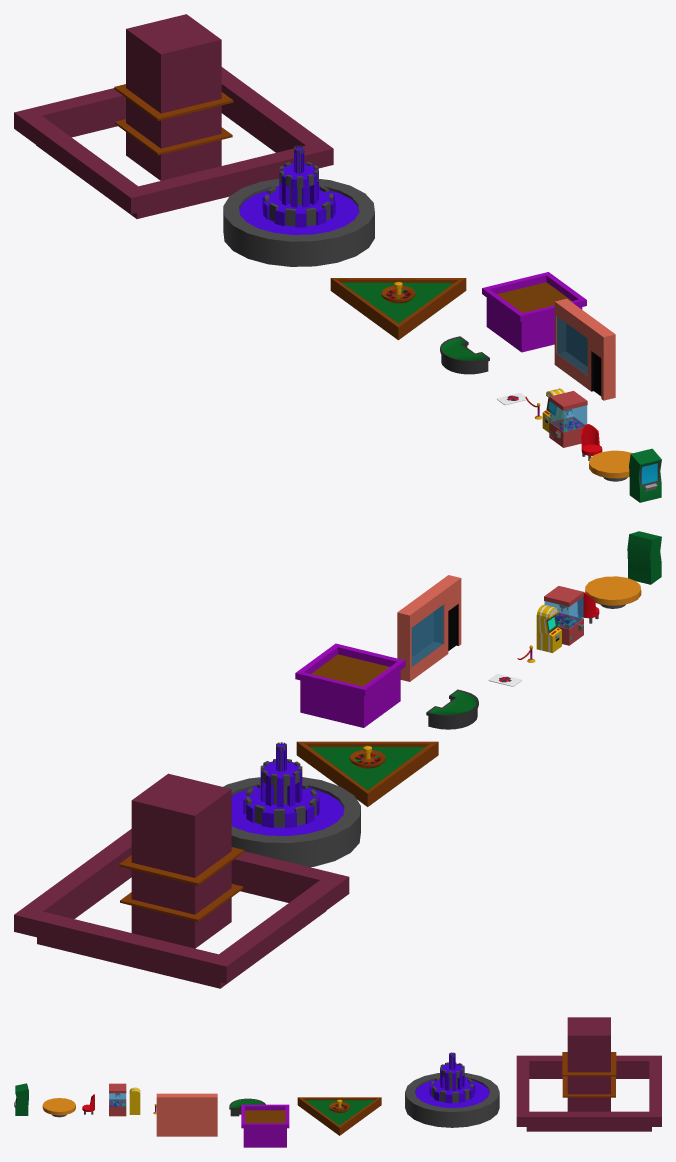
File: cassino_objetos.fbx
The picture shows the model from 3 angles, top to bottom: view 1: azimuth 30°, elevation 25°; view 2: azimuth 150°, elevation 25°; view 3: azimuth 270°, elevation 25°; orthographic projection. The views are drawn at different scales.
Visible parts, largest first — view 1: Balcao, Fonte, MesaDeDado, Cube, Vitrine, MaquinaBrinquedo, MaquinaCartao, Mesa21, Mesa; view 2: Balcao, Fonte, Cube, MesaDeDado, Vitrine, MaquinaCartao, MaquinaBrinquedo, Mesa21, Mesa, MaquinaArcade; view 3: Balcao, Fonte, Vitrine, Cube, MesaDeDado, MaquinaBrinquedo, Mesa, MaquinaCartao, Mesa21, MaquinaArcade.
Boxes of the visible parts, bbox=[...] form: Balcao: bbox=[14, 14, 333, 218]; Fonte: bbox=[223, 145, 374, 266]; MesaDeDado: bbox=[330, 278, 466, 340]; Cube: bbox=[482, 272, 586, 352]; Vitrine: bbox=[554, 298, 615, 400]; MaquinaBrinquedo: bbox=[549, 391, 587, 447]; MaquinaCartao: bbox=[629, 448, 661, 502]; Mesa21: bbox=[440, 336, 489, 374]; Mesa: bbox=[589, 450, 632, 481]; Balcao: bbox=[14, 773, 349, 988]; Fonte: bbox=[223, 742, 360, 867]; Cube: bbox=[295, 643, 405, 727]; MesaDeDado: bbox=[296, 741, 438, 806]; Vitrine: bbox=[397, 575, 461, 681]; MaquinaCartao: bbox=[627, 531, 661, 584]; MaquinaBrinquedo: bbox=[544, 586, 583, 645]; Mesa21: bbox=[426, 689, 478, 729]; Mesa: bbox=[585, 576, 641, 608]; MaquinaArcade: bbox=[536, 604, 561, 652]; Balcao: bbox=[516, 1017, 661, 1131]; Fonte: bbox=[405, 1052, 499, 1127]; Vitrine: bbox=[156, 1093, 217, 1136]; Cube: bbox=[241, 1104, 289, 1147]; MesaDeDado: bbox=[297, 1097, 381, 1135]; MaquinaBrinquedo: bbox=[109, 1083, 126, 1116]; Mesa: bbox=[42, 1098, 75, 1117]; MaquinaCartao: bbox=[14, 1083, 28, 1115]; Mesa21: bbox=[229, 1098, 265, 1116]; MaquinaArcade: bbox=[129, 1087, 140, 1114].
Bounding box in the file's own units: 1938 × 1053 × 7464.
